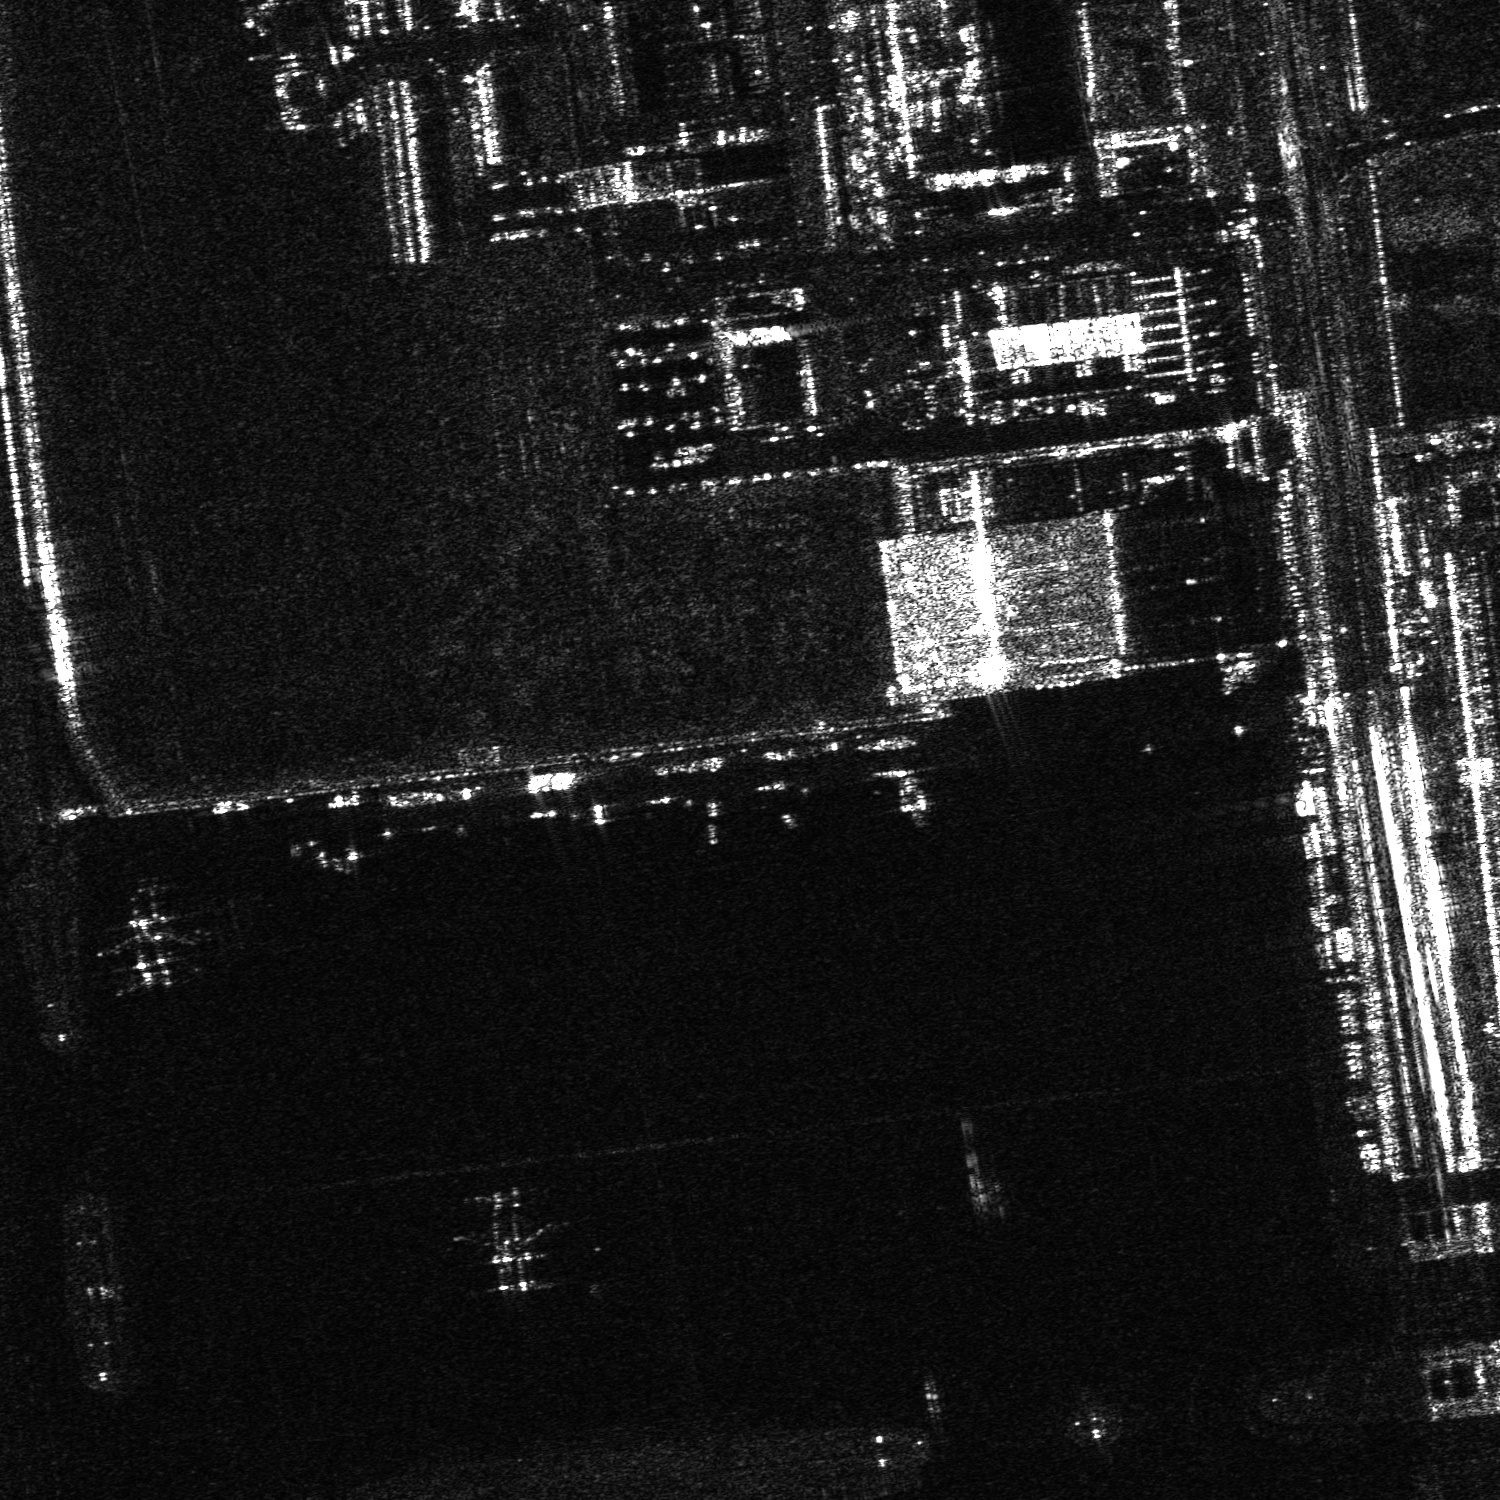A220: (95, 911, 195, 990)
A330: (455, 1183, 556, 1269), (1069, 1398, 1118, 1444)
